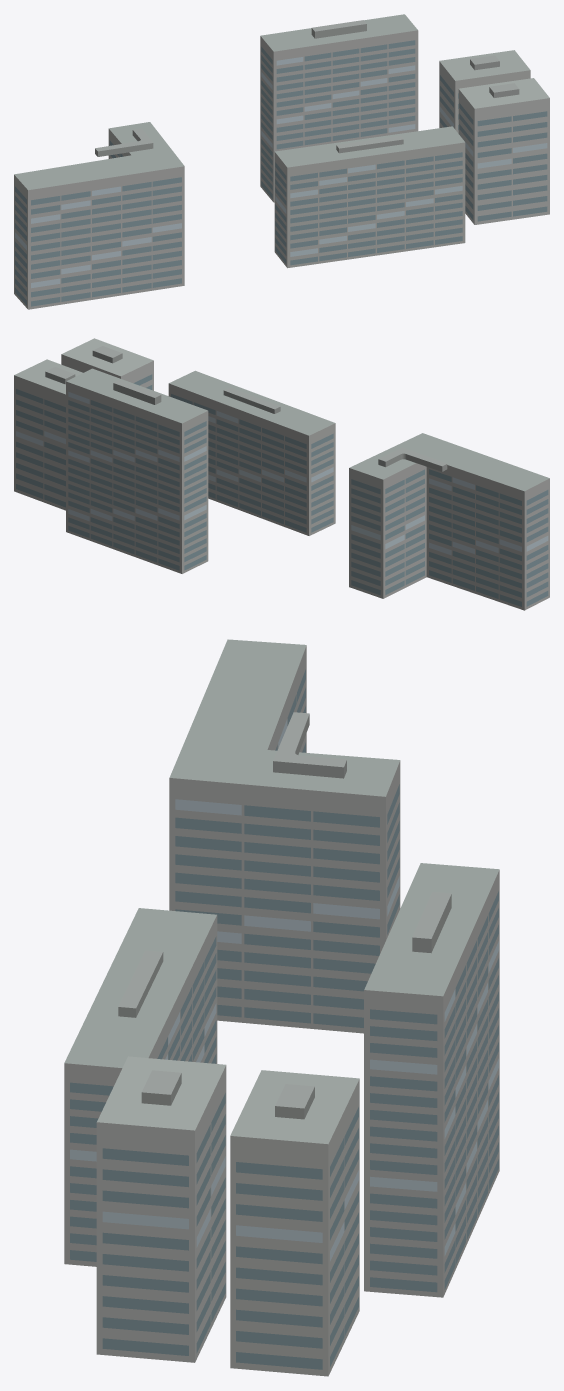
The model's file is apt-a15010301.glb.
3 views of the same model, one above another, from view 1: azimuth 30°, elevation 25°; view 2: azimuth 150°, elevation 25°; view 3: azimuth 270°, elevation 25° (orthographic). The views are drawn at different scales.
Visible parts, largest first — view 1: apt-a15010301; view 2: apt-a15010301; view 3: apt-a15010301.
Part boxes in pixels (<box>): apt-a15010301: <box>14,14,549,309</box>; apt-a15010301: <box>14,338,549,610</box>; apt-a15010301: <box>64,639,499,1376</box>.
Size of the model in its own units: 163 by 48 by 60.03.
